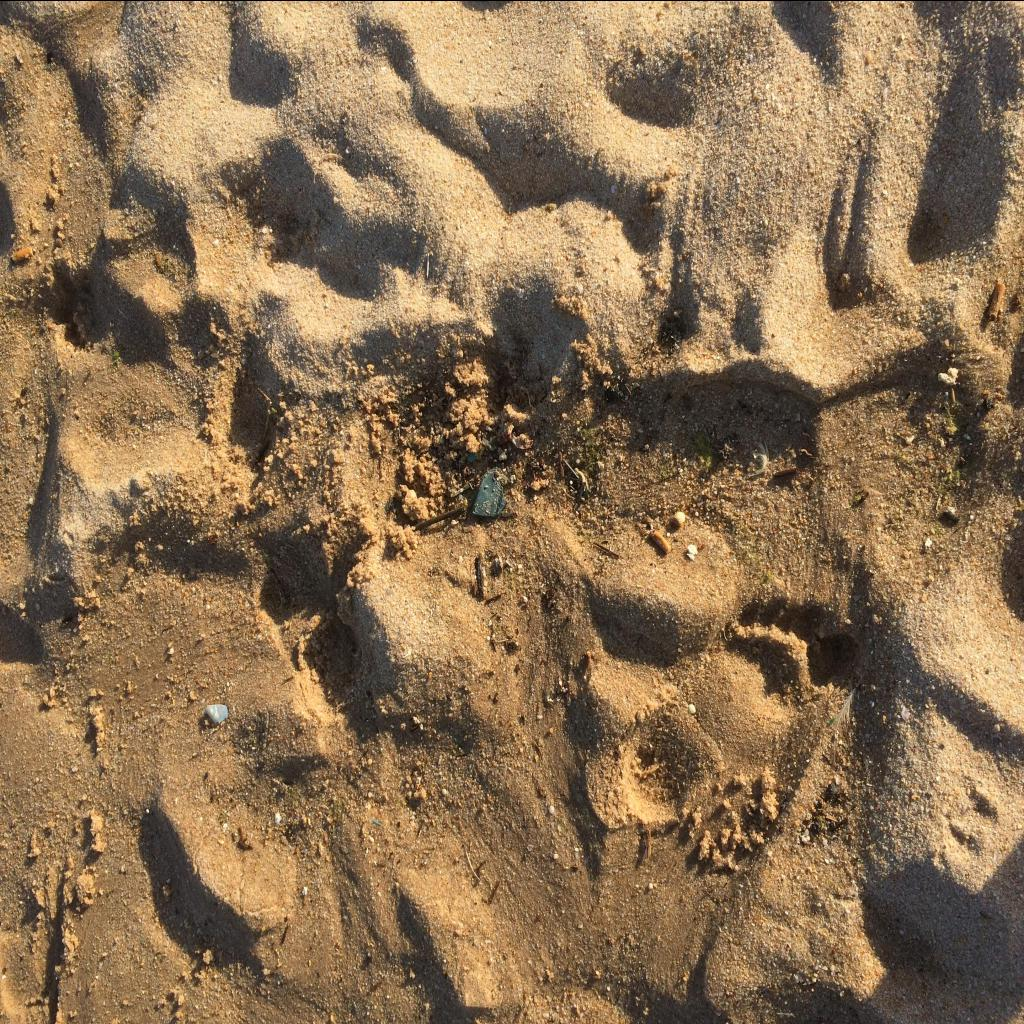Cigarette: (986, 284, 1006, 320), (648, 528, 672, 554), (11, 244, 34, 264)
Other plastic wrapper: (472, 461, 506, 515)
